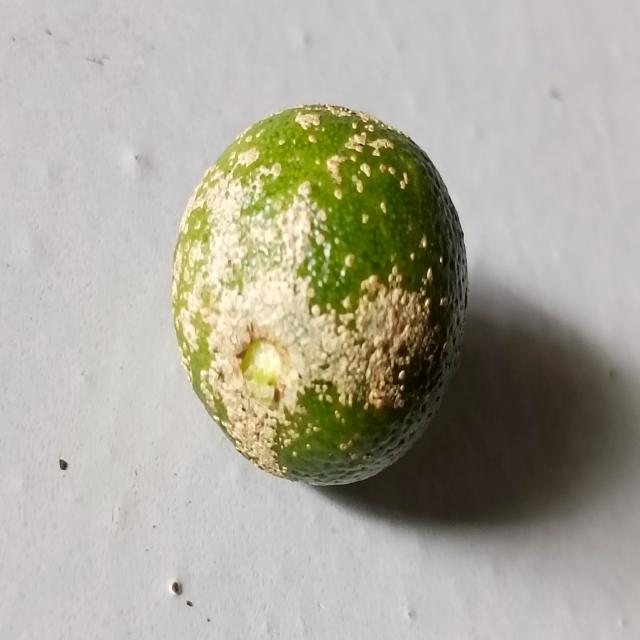scab: (168, 97, 469, 498)
